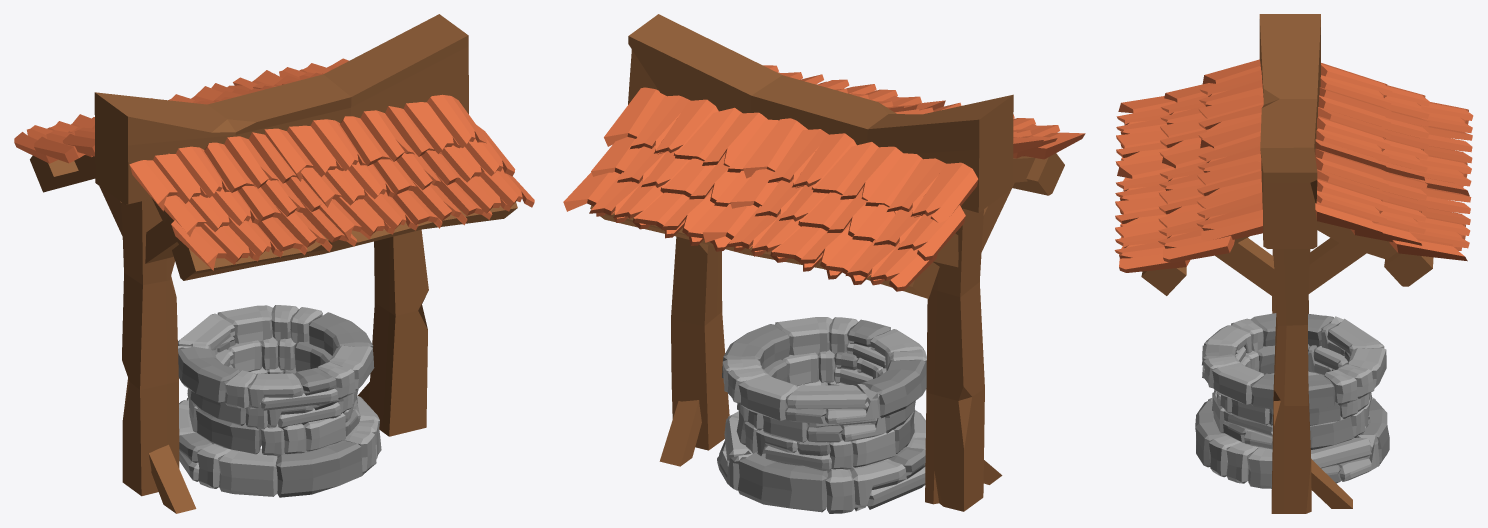
File: puit.glb
The picture shows the model from 3 angles, left to right: view 1: azimuth 30°, elevation 25°; view 2: azimuth 150°, elevation 25°; view 3: azimuth 270°, elevation 25°; orthographic projection. The views are drawn at different scales.
Visible parts, largest first — view 1: Cube.031, Cube.006, Cube.003, Cube.004, Cube.005, Cube, Cube.002, Cube.032, Cube.001, Cube.007, Cube.034, Cube.012 (+1 smaller); view 2: Cube.032, Cube.006, Cube.003, Cube.004, Cube, Cube.005, Cube.002, Cube.001, Cube.031, Cube.033, Cube.012, Cube.007 (+1 smaller); view 3: Cube.031, Cube.032, Cube.006, Cube.003, Cube.005, Cube, Cube.002, Cube.001, Cube.009, Cube.030, Cube.029, Cube.012 (+2 smaller).
Boxes of the visible parts, x1,y1,x2,y2 form: Cube.031: [129, 94, 534, 270]; Cube.006: [94, 14, 468, 204]; Cube.003: [178, 305, 374, 410]; Cube.004: [121, 199, 179, 496]; Cube.005: [368, 229, 428, 436]; Cube: [179, 396, 381, 497]; Cube.002: [187, 334, 358, 429]; Cube.032: [14, 58, 348, 163]; Cube.001: [189, 366, 360, 455]; Cube.007: [172, 202, 517, 280]; Cube.034: [148, 444, 196, 513]; Cube.012: [30, 155, 95, 192]; Cube.032: [563, 87, 978, 291]; Cube.006: [628, 14, 1013, 212]; Cube.003: [722, 317, 926, 423]; Cube.004: [925, 208, 984, 511]; Cube: [717, 410, 925, 513]; Cube.005: [671, 236, 729, 450]; Cube.002: [737, 350, 915, 442]; Cube.001: [736, 379, 914, 470]; Cube.031: [763, 65, 1085, 159]; Cube.033: [659, 400, 701, 466]; Cube.012: [590, 205, 939, 298]; Cube.007: [1012, 153, 1064, 195]; Cube.031: [1114, 59, 1263, 272]; Cube.032: [1315, 63, 1473, 261]; Cube.006: [1259, 14, 1320, 248]; Cube.003: [1202, 313, 1386, 409]; Cube.005: [1271, 249, 1311, 513]; Cube: [1195, 397, 1389, 488]; Cube.002: [1216, 344, 1370, 425]; Cube.001: [1212, 371, 1371, 449]; Cube.009: [1215, 237, 1275, 298]; Cube.030: [1308, 238, 1366, 293]; Cube.029: [1317, 221, 1396, 259]; Cube.012: [1384, 252, 1433, 286].
Bounding box in the file's own units: 21.47 × 22.86 × 20.47.
